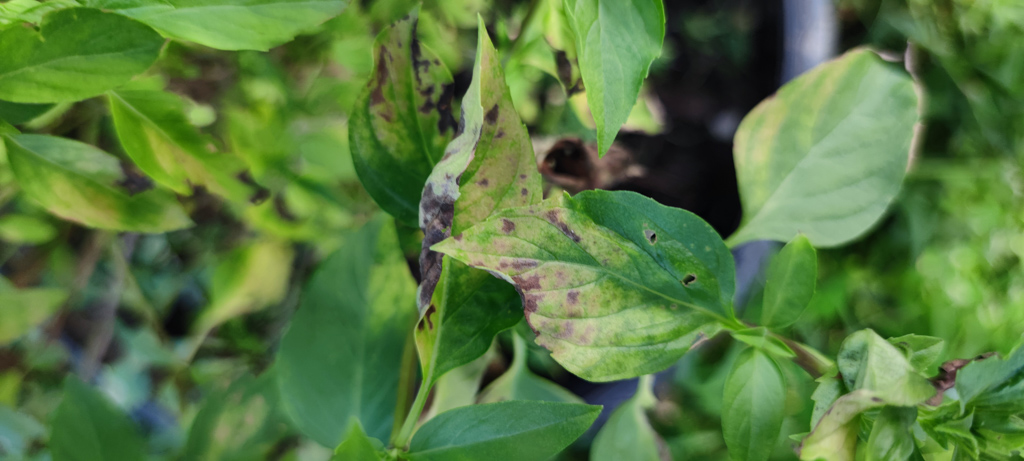Canker: (403, 21, 463, 151), (419, 179, 458, 352), (501, 254, 548, 334), (362, 40, 401, 128), (108, 155, 163, 198), (562, 285, 594, 346), (541, 207, 589, 242), (482, 95, 503, 133), (513, 168, 534, 202), (496, 216, 523, 235), (470, 173, 496, 192)
